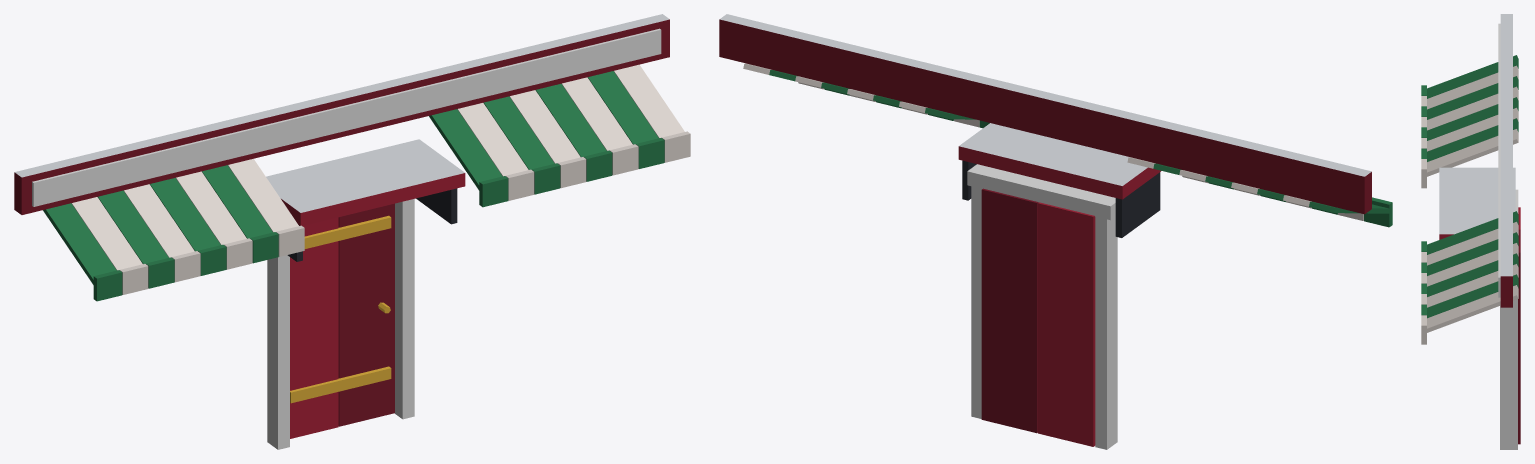
File: Apartment_Cream_Shopfront.glb
The picture shows the model from 3 angles, left to right: view 1: azimuth 30°, elevation 25°; view 2: azimuth 150°, elevation 25°; view 3: azimuth 270°, elevation 25°; orthographic projection. The views are drawn at different scales.
Parts seen in each view (by area): view 1: Apartment_Cream_Shopfront; view 2: Apartment_Cream_Shopfront; view 3: Apartment_Cream_Shopfront.
Part boxes in pixels (bbox=[...]): Apartment_Cream_Shopfront: bbox=[14, 14, 690, 449]; Apartment_Cream_Shopfront: bbox=[719, 14, 1392, 449]; Apartment_Cream_Shopfront: bbox=[1421, 14, 1520, 449].
Size of the model in its own units: 25.2 by 12.43 by 4.02.
